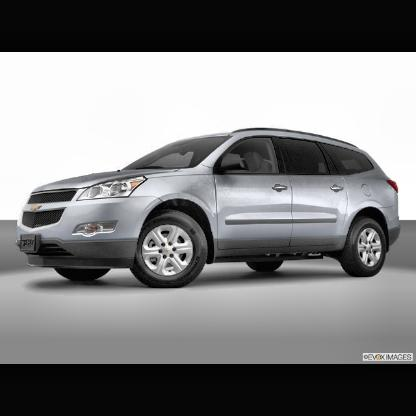Chevrolet Traverse SUV 2012: (15, 125, 406, 292)
